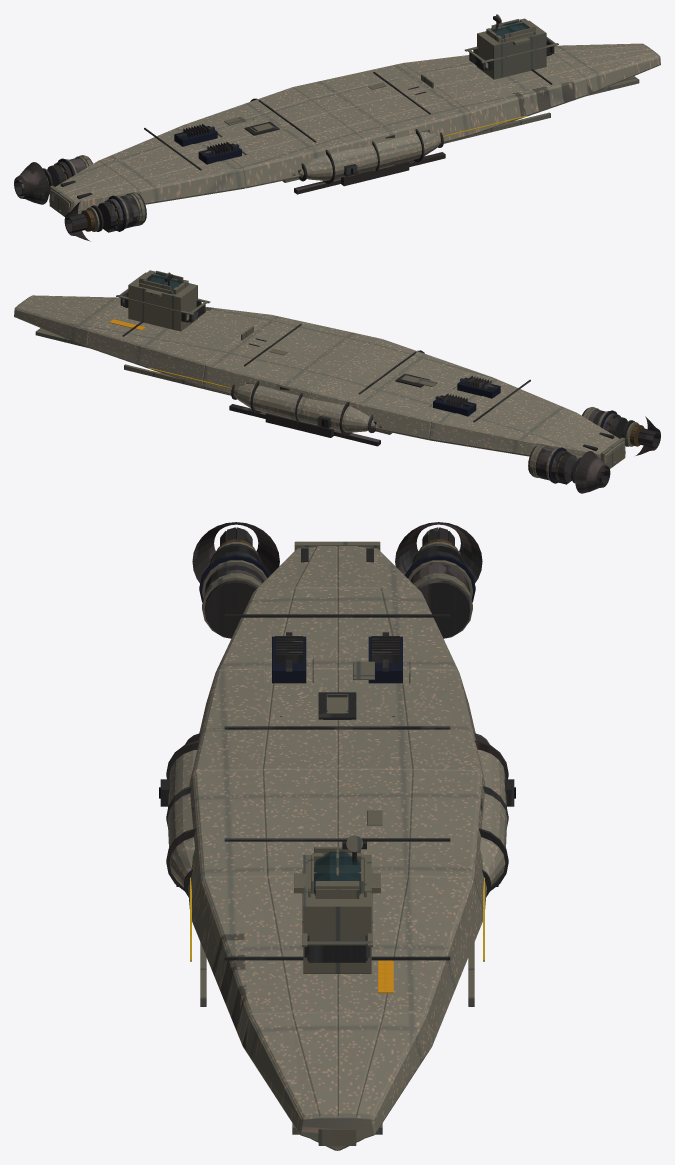
The model's file is helios_span_production_v1_lod1.glb.
3 views of the same model, one above another, from view 1: azimuth 30°, elevation 25°; view 2: azimuth 150°, elevation 25°; view 3: azimuth 270°, elevation 25° (orthographic). The views are drawn at different scales.
Parts seen in each view (by area): view 1: LOD1_Hull, LOD1_Mechanical, LOD1_Armor, LOD1_Radiator; view 2: LOD1_Hull, LOD1_Mechanical, LOD1_Armor, LOD1_Radiator; view 3: LOD1_Hull, LOD1_Mechanical, LOD1_Armor, LOD1_Radiator, LOD1_Canopy.
Boxes of the visible parts, x1,y1,x2,y2 form: LOD1_Hull: [50, 43, 660, 211]; LOD1_Mechanical: [14, 16, 554, 241]; LOD1_Armor: [47, 14, 639, 231]; LOD1_Radiator: [57, 126, 241, 231]; LOD1_Hull: [14, 295, 625, 463]; LOD1_Mechanical: [120, 274, 660, 493]; LOD1_Armor: [35, 270, 638, 481]; LOD1_Radiator: [433, 377, 616, 483]; LOD1_Hull: [167, 546, 507, 1150]; LOD1_Mechanical: [160, 522, 514, 962]; LOD1_Armor: [200, 541, 474, 1145]; LOD1_Radiator: [199, 554, 475, 683]; LOD1_Canopy: [314, 851, 360, 895].
Size of what is drawn, in the model's own units: 18.03 by 3.07 by 4.58.
9 materials, 9 textured.
